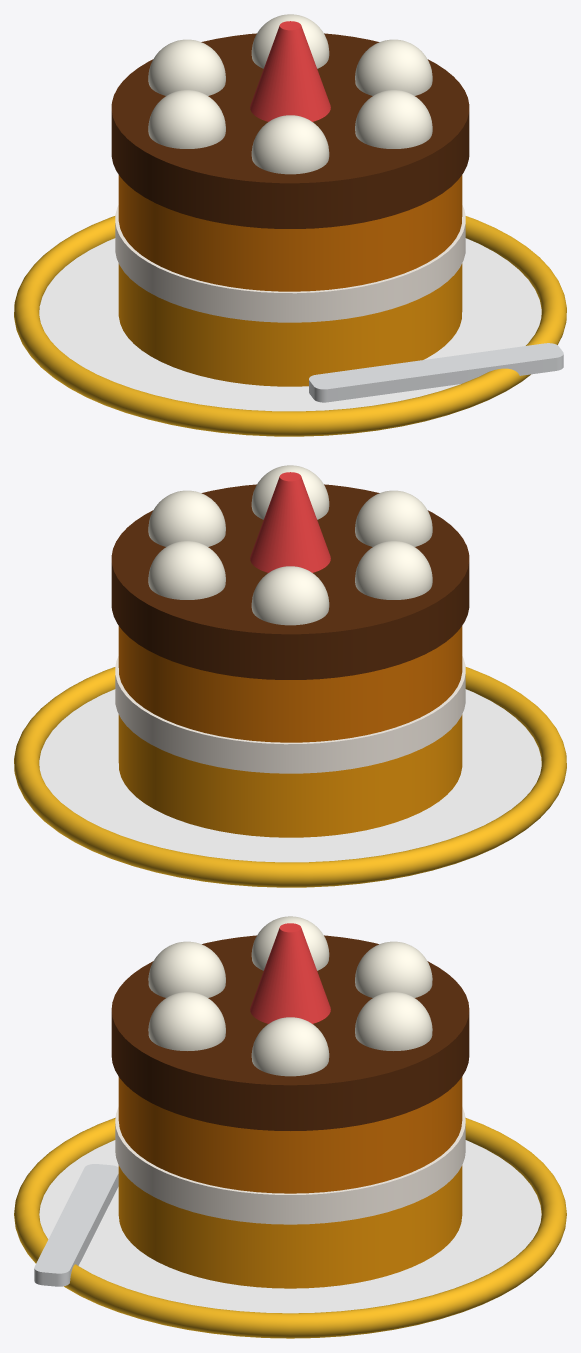
Rendered from cake_plate.glb.
The picture shows the model from 3 angles, top to bottom: view 1: azimuth 30°, elevation 25°; view 2: azimuth 150°, elevation 25°; view 3: azimuth 270°, elevation 25°; orthographic projection.
Visible parts, largest first — view 1: choco_glaze, plate, sponge_2, plate_rim, sponge_1, cream_1, fork, berry, puff_4, puff_3, puff_5, puff_2 (+2 smaller); view 2: choco_glaze, plate, sponge_1, plate_rim, sponge_2, cream_1, berry, puff_2, puff_1, puff_3, puff_4, puff_0 (+1 smaller); view 3: choco_glaze, plate, sponge_1, sponge_2, plate_rim, cream_1, berry, fork, puff_0, puff_1, puff_5, puff_2 (+2 smaller).
Part boxes in pixels (bbox=[...]): choco_glaze: bbox=[111, 33, 469, 228]; plate: bbox=[39, 238, 541, 411]; sponge_2: bbox=[118, 175, 462, 291]; plate_rim: bbox=[14, 216, 566, 436]; sponge_1: bbox=[118, 263, 462, 386]; cream_1: bbox=[115, 205, 465, 322]; fork: bbox=[309, 343, 563, 402]; berry: bbox=[250, 21, 330, 121]; puff_4: bbox=[251, 115, 329, 174]; puff_3: bbox=[148, 90, 225, 148]; puff_5: bbox=[355, 90, 432, 148]; puff_2: bbox=[148, 39, 225, 95]; choco_glaze: bbox=[111, 484, 469, 679]; plate: bbox=[39, 689, 541, 862]; sponge_1: bbox=[118, 714, 462, 837]; plate_rim: bbox=[14, 667, 566, 887]; sponge_2: bbox=[118, 626, 462, 742]; cream_1: bbox=[115, 656, 465, 773]; berry: bbox=[250, 472, 330, 572]; puff_2: bbox=[251, 566, 329, 625]; puff_1: bbox=[148, 541, 225, 599]; puff_3: bbox=[355, 541, 432, 599]; puff_4: bbox=[355, 490, 432, 546]; puff_0: bbox=[148, 490, 225, 546]; choco_glaze: bbox=[111, 935, 469, 1130]; plate: bbox=[39, 1140, 541, 1313]; sponge_1: bbox=[118, 1165, 462, 1288]; sponge_2: bbox=[118, 1077, 462, 1193]; plate_rim: bbox=[14, 1117, 566, 1338]; cream_1: bbox=[115, 1107, 465, 1224]; berry: bbox=[250, 923, 330, 1023]; fork: bbox=[34, 1164, 118, 1286]; puff_0: bbox=[251, 1017, 329, 1076]; puff_1: bbox=[355, 992, 432, 1050]; puff_5: bbox=[148, 992, 225, 1050]; puff_2: bbox=[355, 941, 432, 997].
Size of the model in its own units: 0.306 by 0.198 by 0.306.
